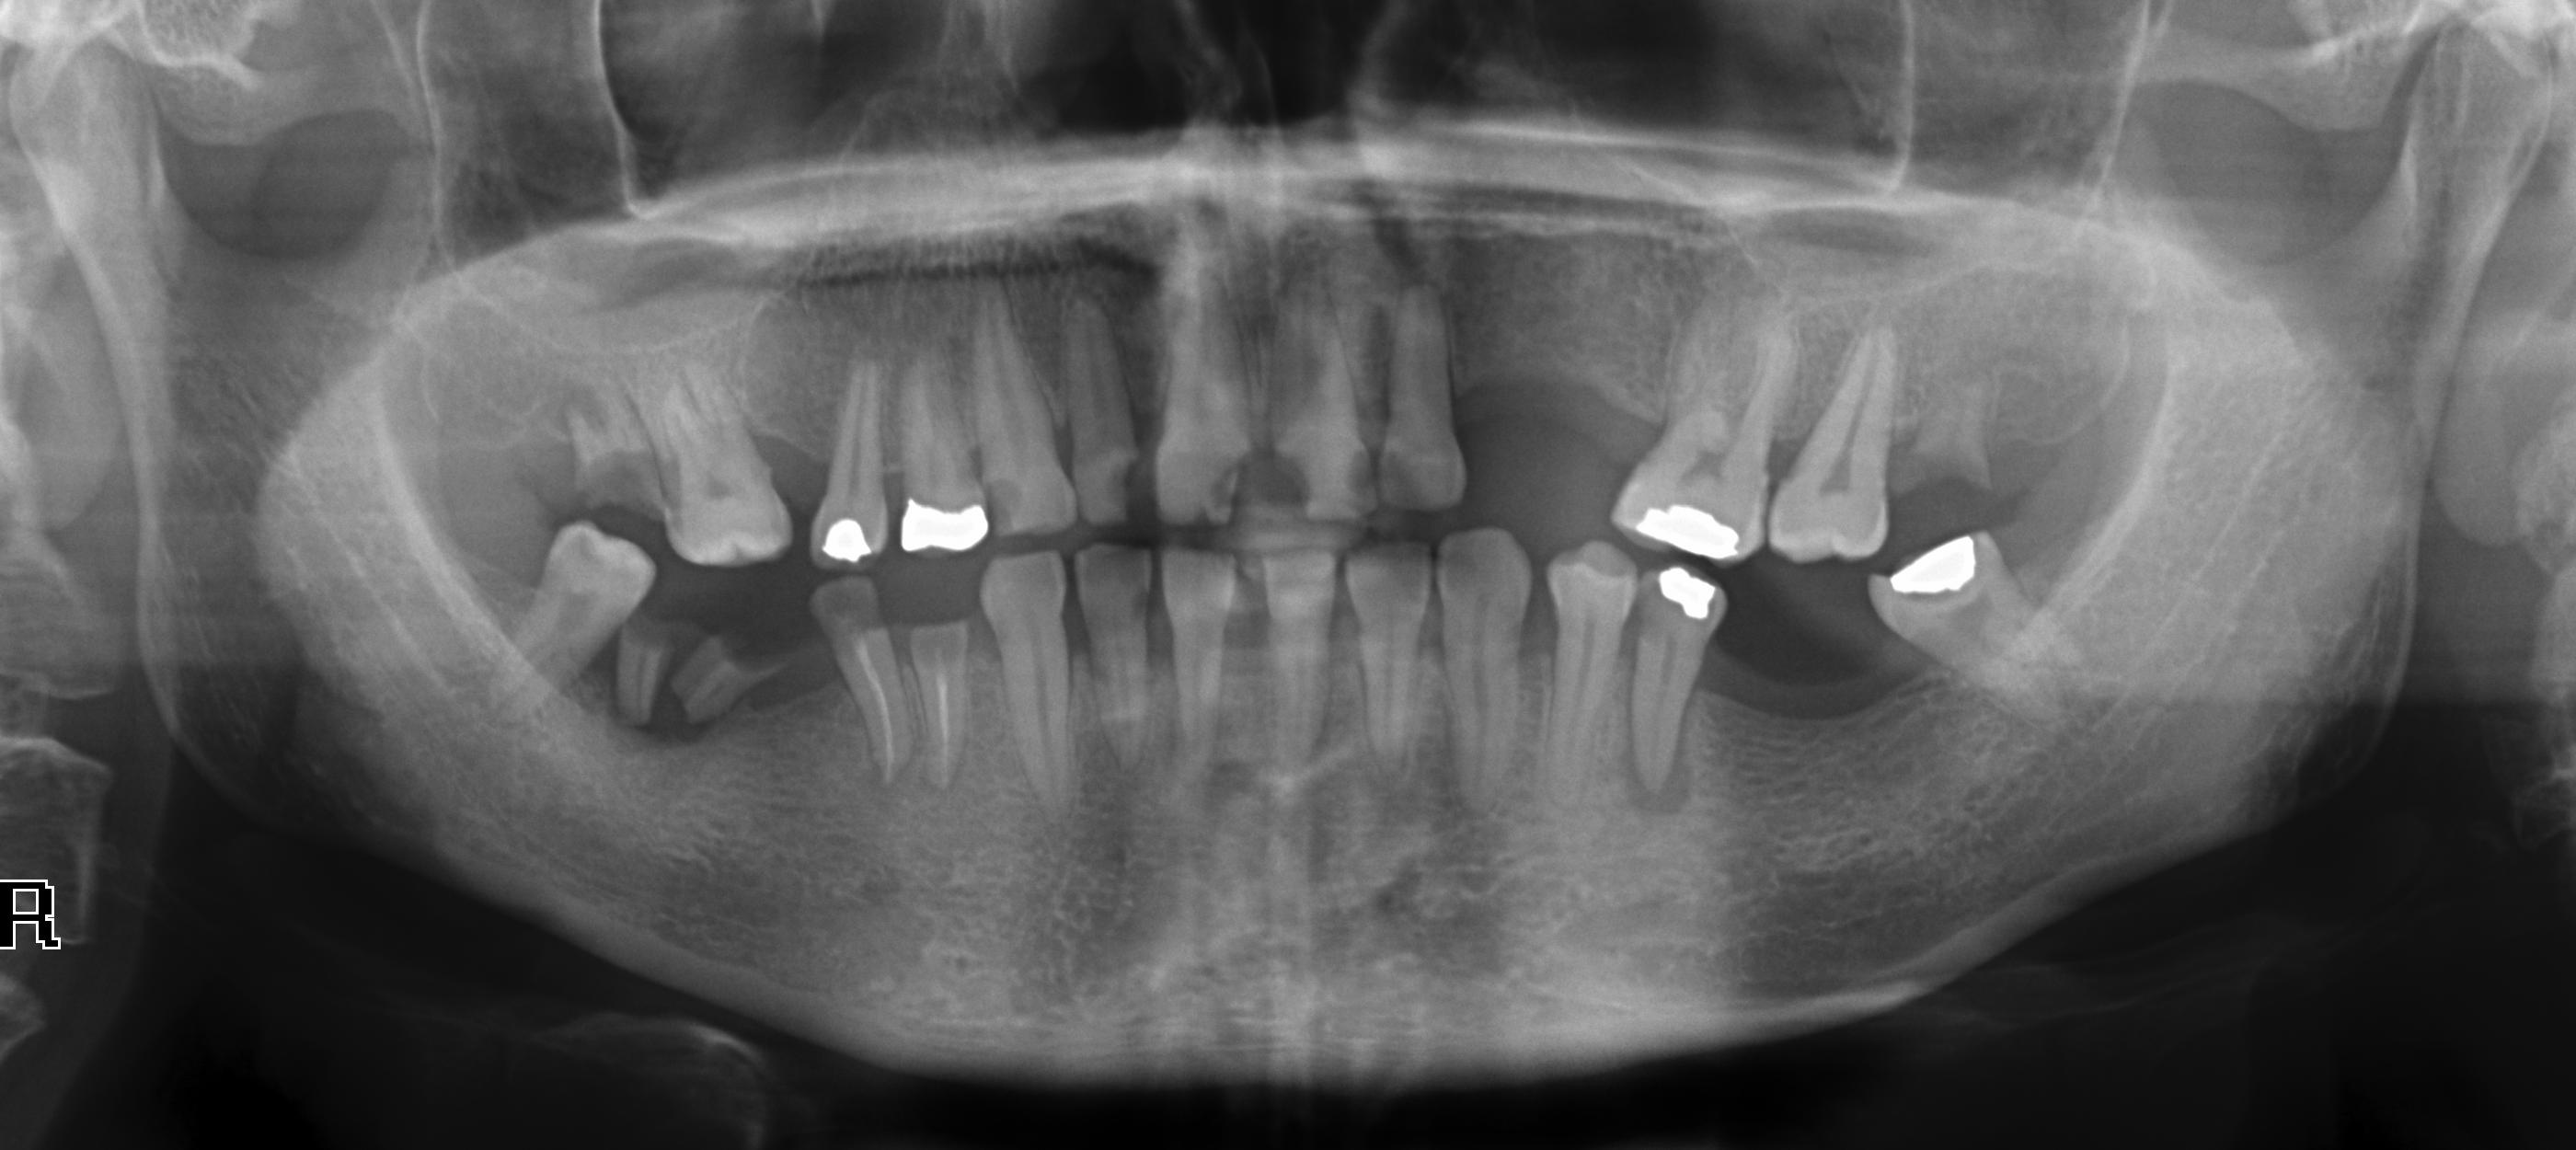Çürük: (1870, 519, 2014, 601), (887, 480, 1005, 570), (1617, 494, 1753, 562), (1638, 559, 1750, 631), (803, 504, 884, 565)
Çürük Bölgesi: (575, 452, 659, 521), (1106, 452, 1155, 521), (1272, 445, 1319, 514), (1350, 440, 1388, 521), (1382, 453, 1423, 513), (1212, 460, 1252, 516), (1441, 544, 1483, 591), (1893, 583, 1957, 614), (1129, 582, 1153, 624)
